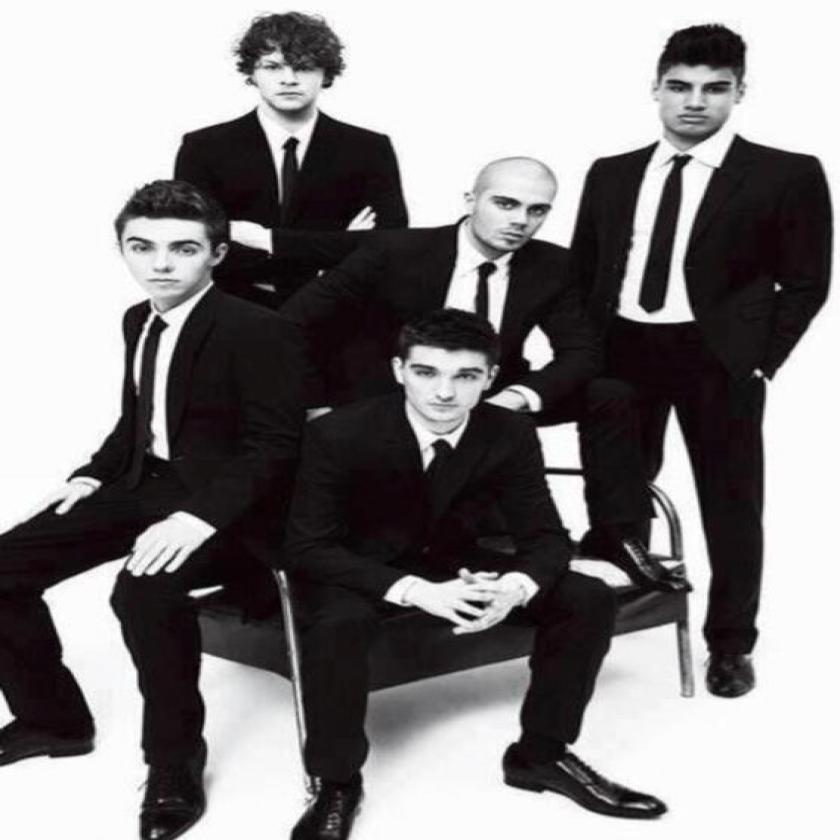Sin_casco: (102, 174, 232, 308), (386, 305, 512, 433), (235, 7, 344, 128), (653, 22, 750, 144), (466, 154, 566, 267)
